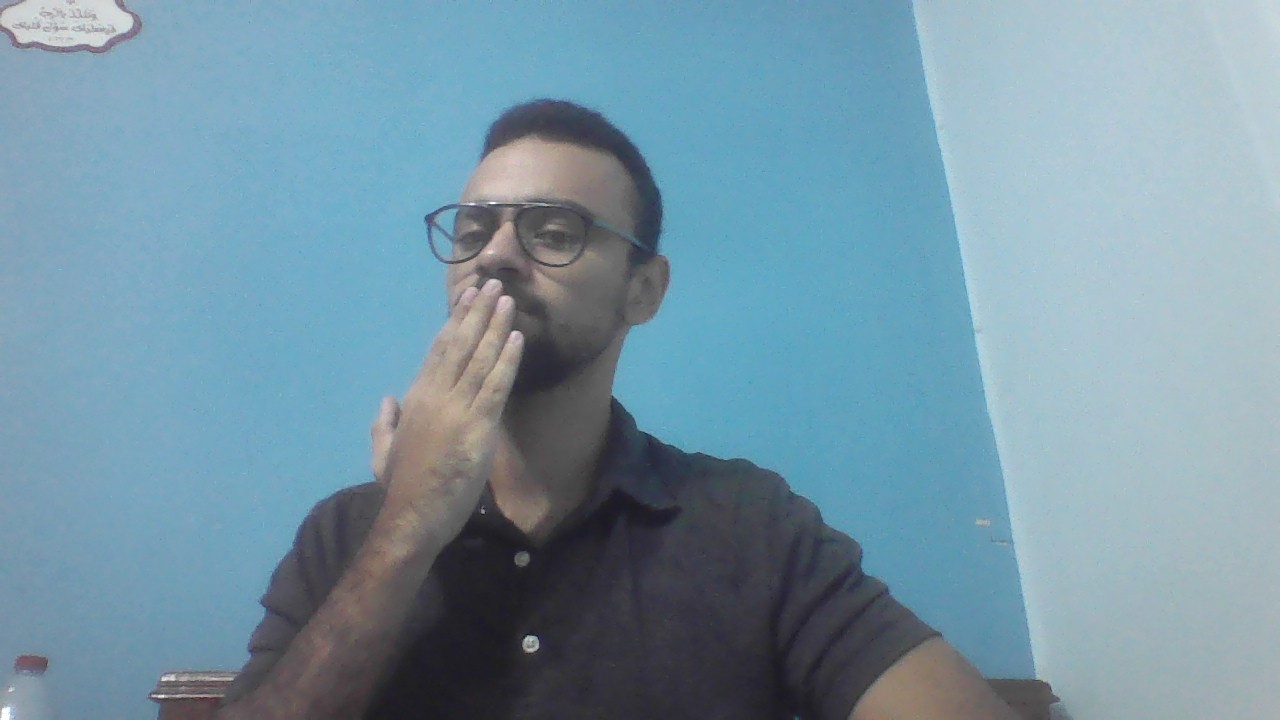thankyou: (369, 279, 526, 524)
